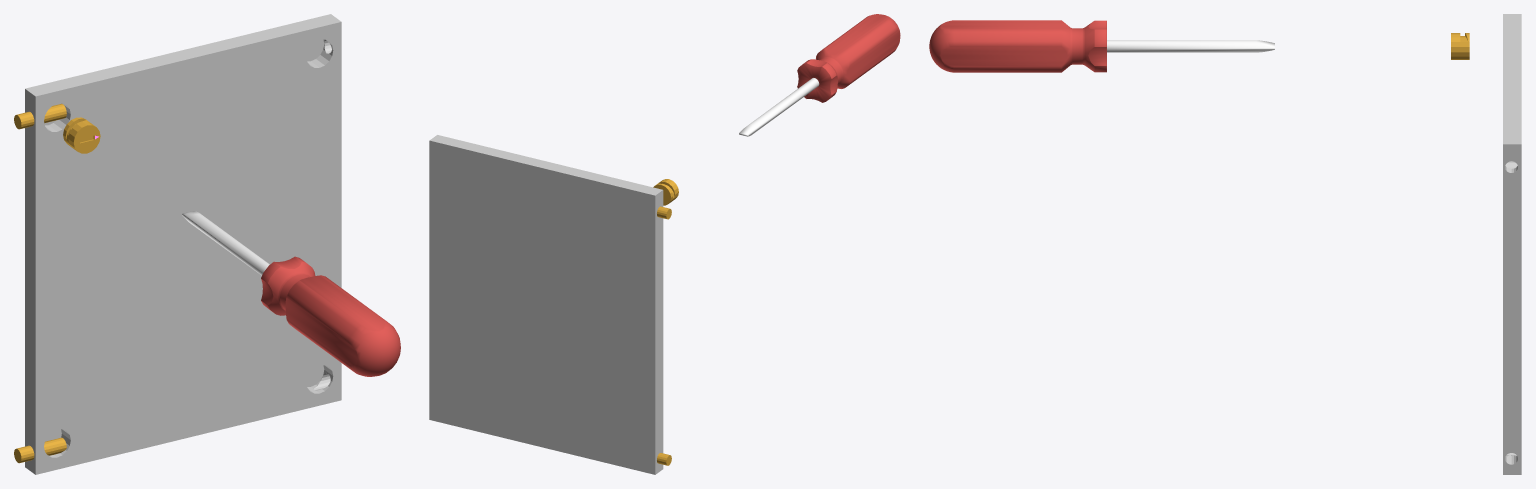
Rendered from camlock_animation.glb.
3 renders of one model, left to right at view 1: azimuth 30°, elevation 25°; view 2: azimuth 150°, elevation 25°; view 3: azimuth 270°, elevation 25°, orthographic. The views are drawn at different scales.
Parts seen in each view (by area): view 1: Middle1.001, Screwdriver, Cutter12Right.001, CamLock; view 2: Middle1.001, Screwdriver; view 3: Screwdriver, Middle1.001.
Part boxes in pixels (x1,y1,x2,y2): Middle1.001: (25,14,341,474); Screwdriver: (182,211,400,376); Cutter12Right.001: (14,103,66,463); CamLock: (63,117,100,153); Middle1.001: (429,135,663,474); Screwdriver: (739,14,900,136); Screwdriver: (929,20,1274,72); Middle1.001: (1503,14,1521,474).
Size of the model in its own units: 0.344 by 0.39 by 0.6334.
